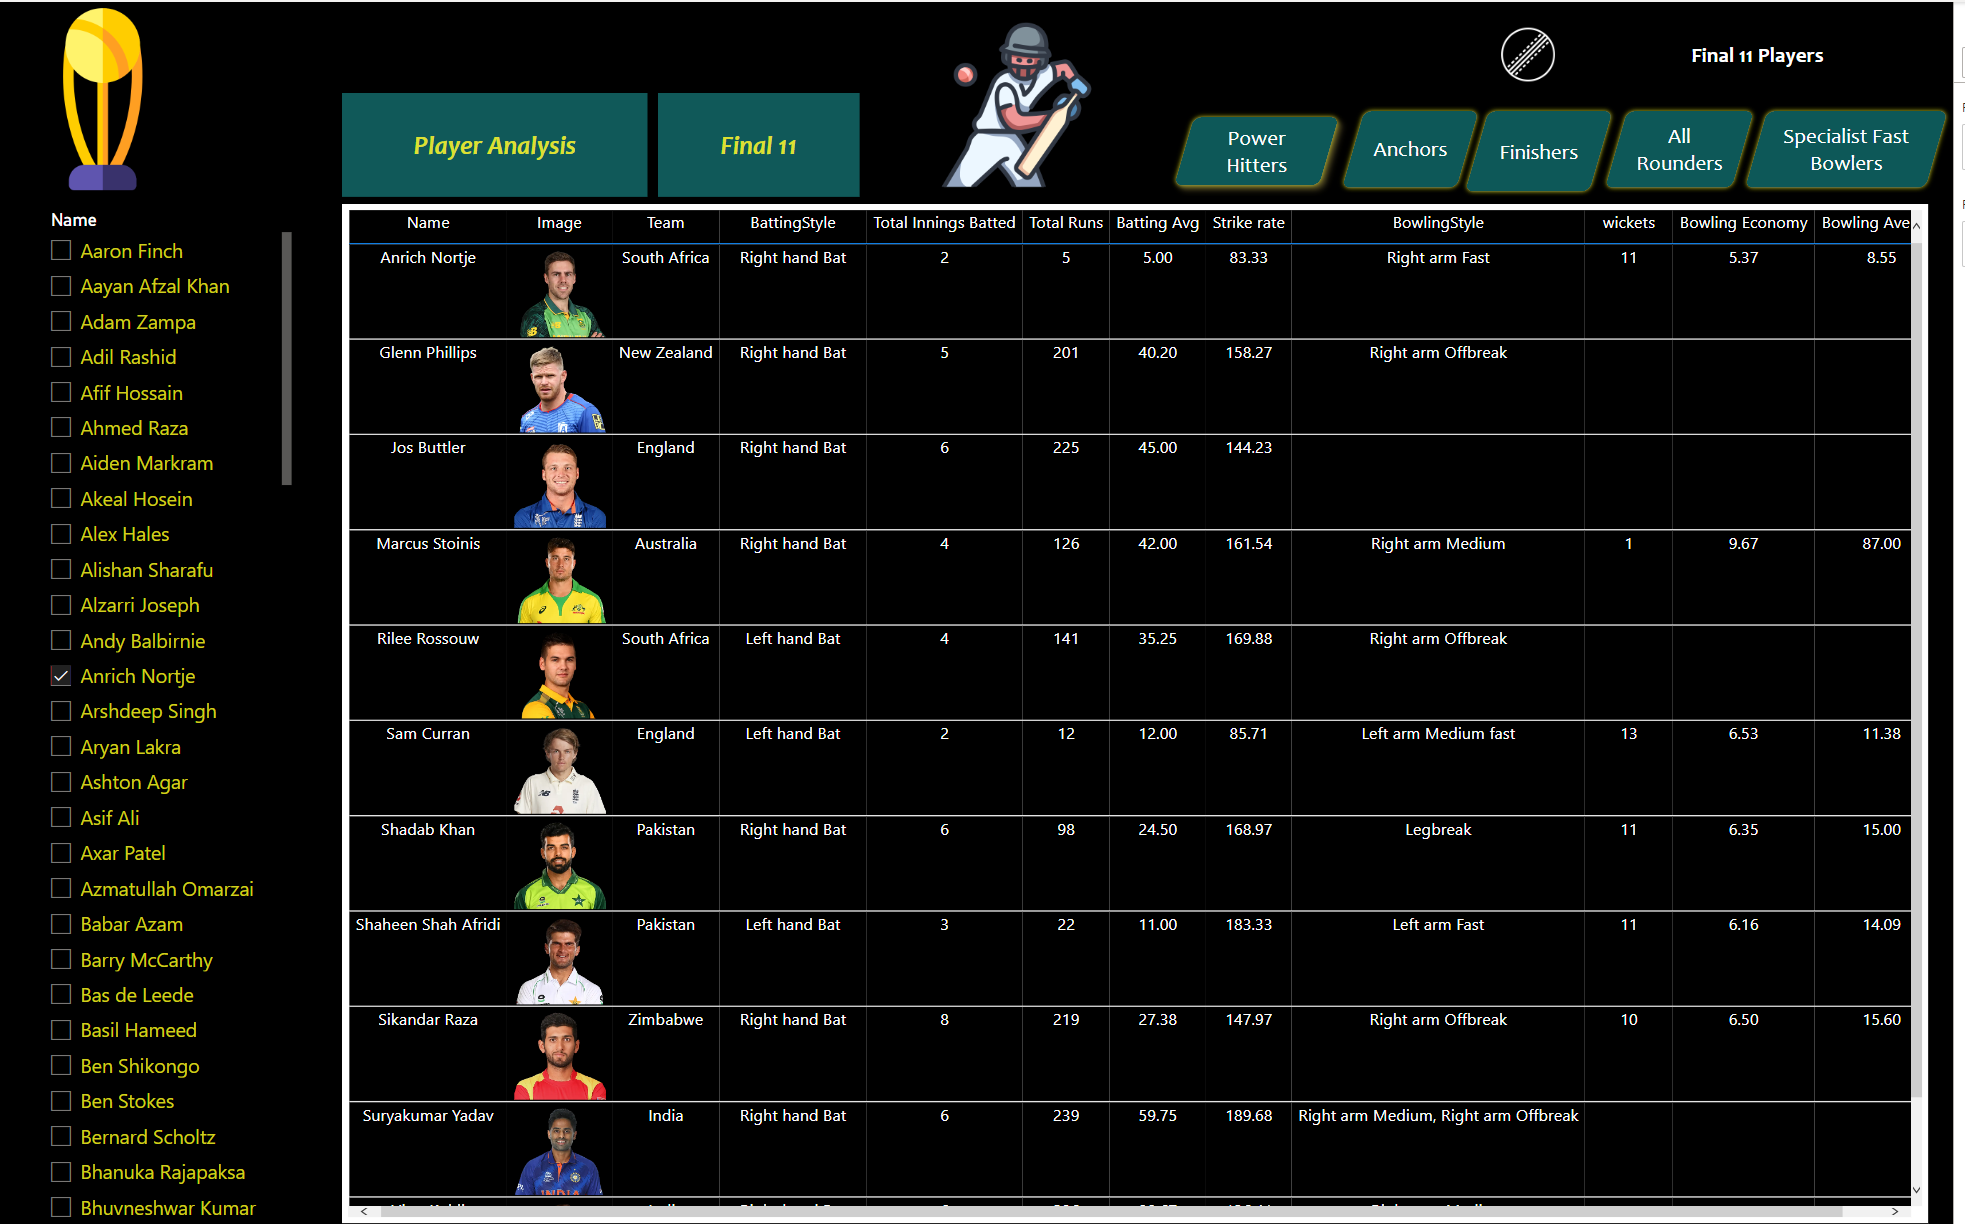

Layout of this report page (visuals, bound fields, positions):
{"tool":"powerbi","page":{"name":"Final Team 1","canvas":[1600,1000],"ordinal":5},"visuals":[{"type":"group","id":"g1","title":"Group 2","box":[1282.1,5.4,318.1,74.4],"z":0,"group":"g2"},{"type":"shape","box":[1282.1,5.4,318.1,74.4],"z":0,"group":"g1"},{"type":"actionButton","title":"Button Player Ana selected","box":[282.4,74.2,250,85.3],"z":0},{"type":"image","box":[1226.1,0,53.8,85.7],"z":1000,"group":"g2"},{"type":"actionButton","title":"Button Player Ana selected","box":[541,74.2,164.7,85.3],"z":1000},{"type":"actionButton","box":[954.4,85.1,153.2,74.2],"z":2000},{"type":"actionButton","box":[1096.4,85.3,120.3,70.8],"z":3000},{"type":"actionButton","box":[1197.6,85.1,128.9,74.2],"z":4000},{"type":"actionButton","box":[1311.9,85.1,130.1,70.5],"z":5000},{"type":"actionButton","box":[1426.1,85.1,173.9,70.5],"z":6000},{"type":"image","box":[0,0,172.4,158.9],"z":7000},{"type":"group","id":"g2","title":"Group 1","box":[1226.1,0,373.7,85.3],"z":8000},{"type":"slicer","fields":{"Values":["Dim_players.name"]},"box":[30.7,165.5,215,834.5],"z":9000},{"type":"tableEx","fields":{"Values":["Dim_players.name","Dim_players.image","Dim_players.team","Dim_players.battingStyle","key_measures.Total Innings Batted","key_measures.Total Runs","key_measures.Batting Avg","key_measures.Strike rate","Dim_players.bowlingStyle","key_measures.wickets","key_measures.Bowling Economy","key_measures.Bowling Average"]},"box":[282.4,165.5,1297.8,834.5],"z":10000},{"type":"image","box":[705.6,5.1,256.8,160.4],"z":11000}]}

Visuals, with their boxes on the page's 1600x1000 design canvas (x1, y1, x2, y2). These are canvas units, not pixel positions in the 1965x1224 screenshot, which may show the page scaled, cropped or inside an application window:
"Group 2" group: crop(1282, 5, 1600, 80)
shape: crop(1282, 5, 1600, 80)
"Button Player Ana selected" actionButton: crop(282, 74, 532, 160)
image: crop(1226, 0, 1280, 86)
"Button Player Ana selected" actionButton: crop(541, 74, 706, 160)
actionButton: crop(954, 85, 1108, 159)
actionButton: crop(1096, 85, 1217, 156)
actionButton: crop(1198, 85, 1326, 159)
actionButton: crop(1312, 85, 1442, 156)
actionButton: crop(1426, 85, 1600, 156)
image: crop(0, 0, 172, 159)
"Group 1" group: crop(1226, 0, 1600, 85)
slicer - Dim_players.name: crop(31, 166, 246, 1000)
tableEx - Dim_players.name x Dim_players.image: crop(282, 166, 1580, 1000)
image: crop(706, 5, 962, 166)
